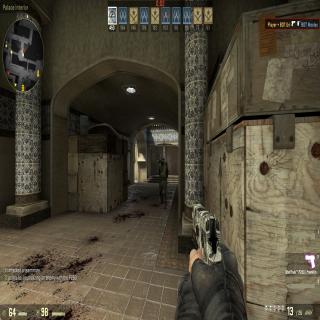CT-Body: (158, 155, 168, 207)
CT-Head: (160, 155, 164, 165)
